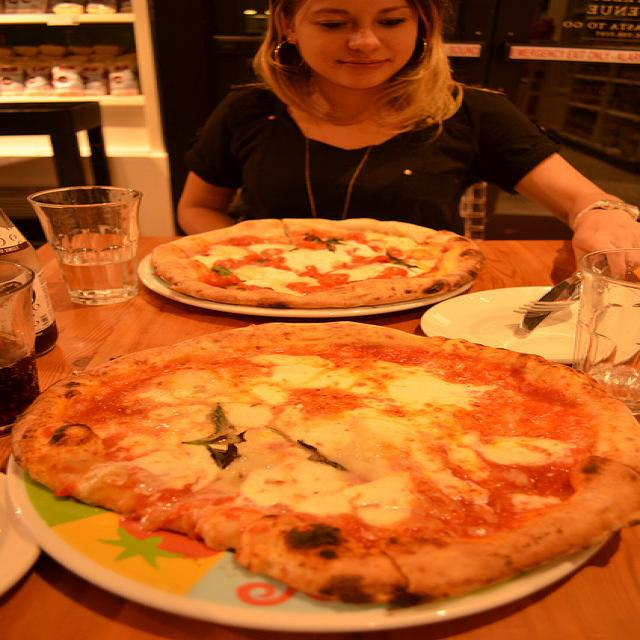chair: (154, 34, 270, 238), (0, 101, 112, 249)
dining table: (2, 240, 640, 629)
